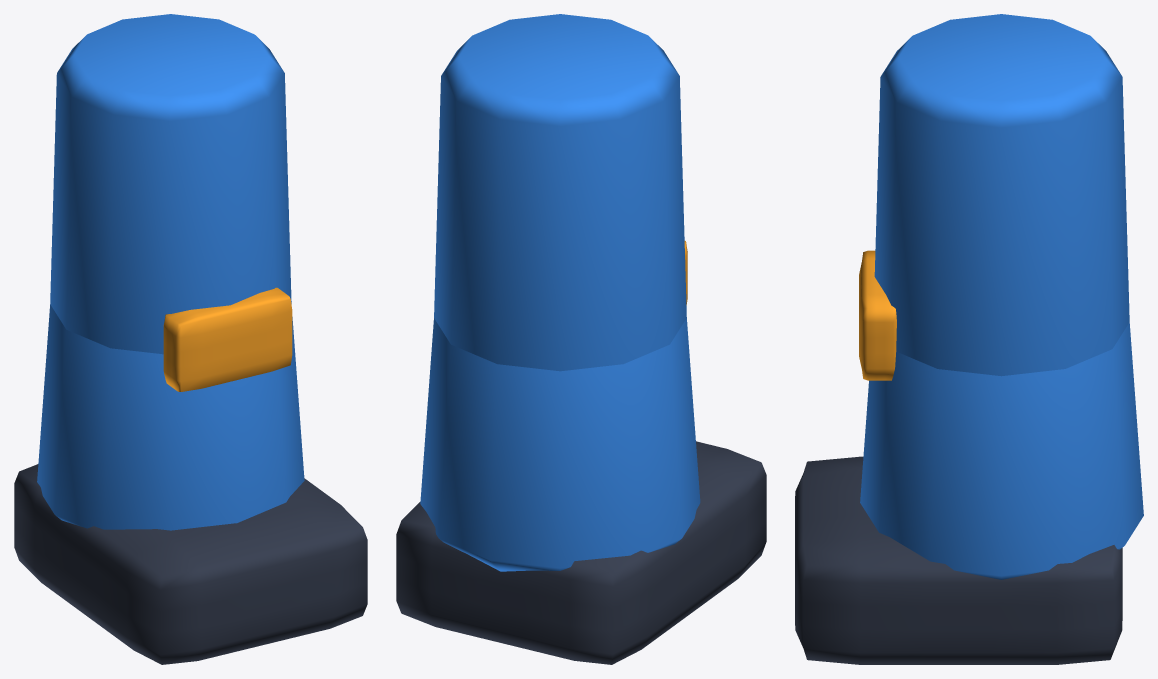
File: leg_sumo.obj
3 renders of one model, left to right at view 1: azimuth 30°, elevation 25°; view 2: azimuth 150°, elevation 25°; view 3: azimuth 270°, elevation 25°, orthographic. The views are drawn at different scales.
Size of the model in its own units: 0.4 by 0.87 by 0.49.
